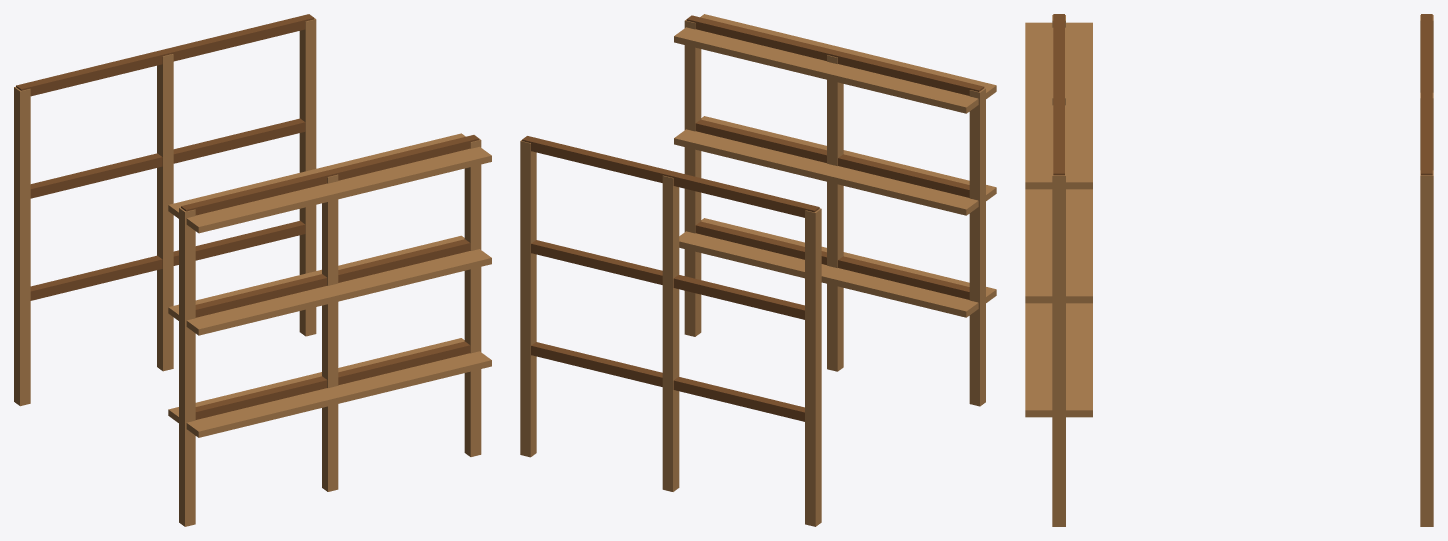
The model's file is rusztowanie.glb.
3 views of the same model, side by side, from view 1: azimuth 30°, elevation 25°; view 2: azimuth 150°, elevation 25°; view 3: azimuth 270°, elevation 25° (orthographic). The views are drawn at different scales.
Parts seen in each view (by area): view 1: rusztowanie; view 2: rusztowanie; view 3: rusztowanie.
Boxes of the visible parts, bbox=[...] form: rusztowanie: bbox=[14, 14, 491, 526]; rusztowanie: bbox=[520, 14, 996, 526]; rusztowanie: bbox=[1025, 14, 1433, 526].
Bounding box in the file's own units: 1.97 × 2.01 × 2.11.
